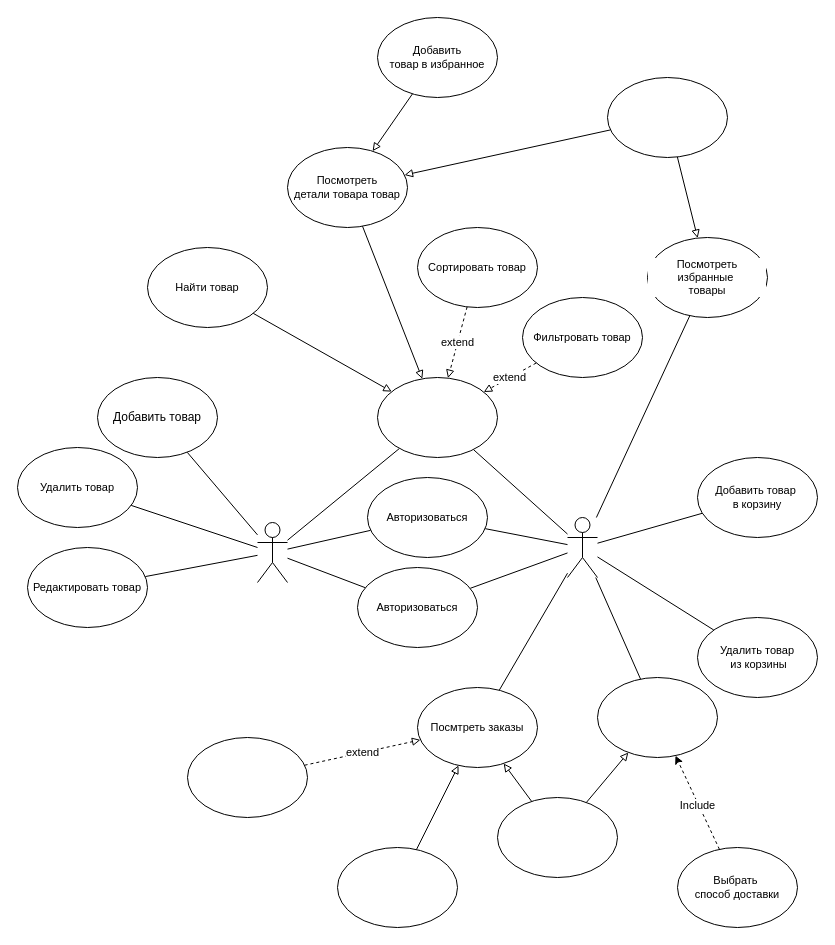
This 835x945 diagram has some shape labels left out. The box of each missing label's shape, as (x1, y1, x2, y2) in pixels:
Администратор: (256, 522, 288, 582)
Купить корзину: (596, 676, 718, 758)
Покупатель: (566, 516, 598, 578)
Посмотреть детали заказа: (336, 846, 458, 928)
Посмотреть товары: (376, 376, 498, 458)
Посмотреть чек: (496, 796, 618, 878)
Удалить товар из избранного: (606, 76, 728, 158)
Фильтровать заказы по статусу: (186, 736, 308, 818)
